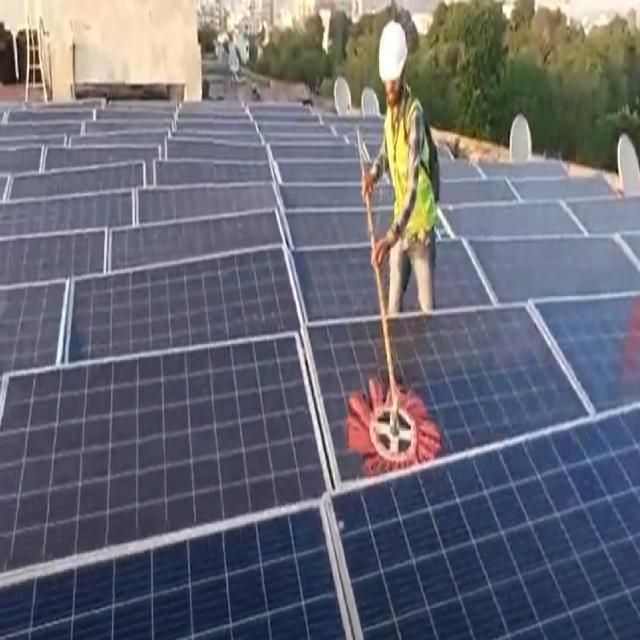dust-solar-panel: (0, 106, 639, 574)
